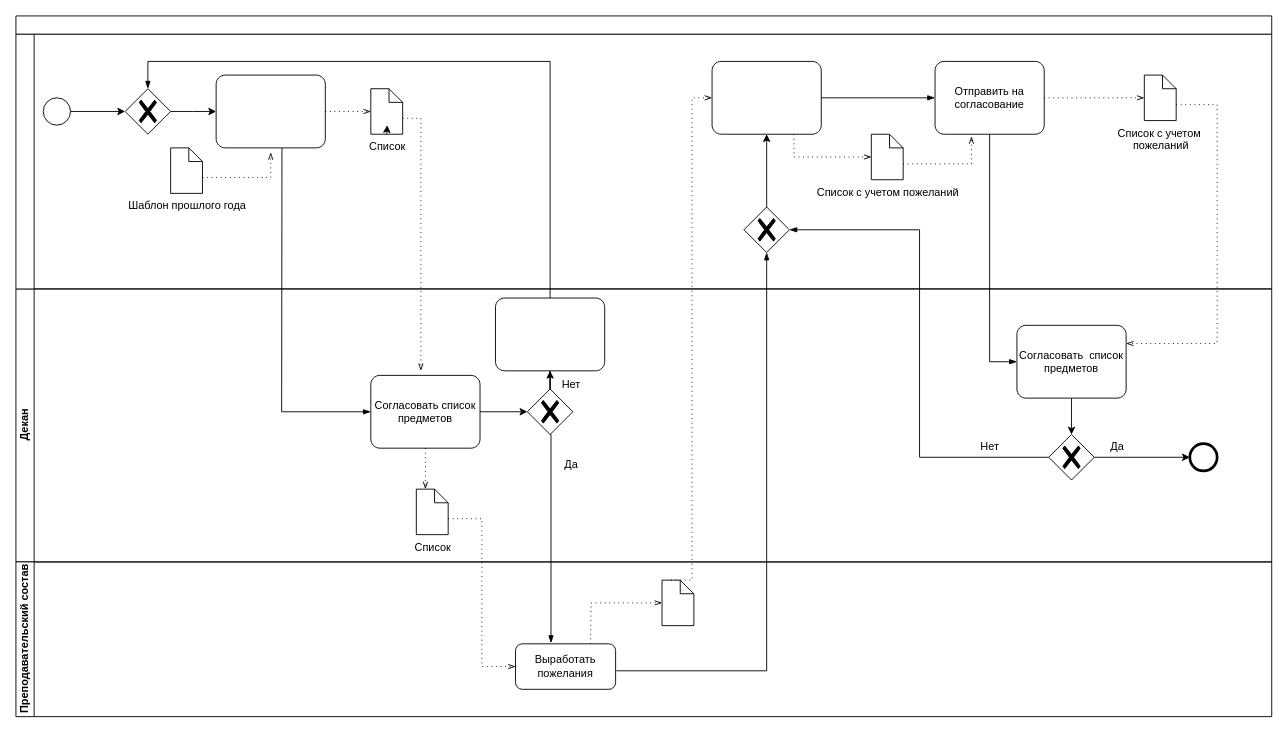
The diagram is 1288 pixels wide and 733 high, and some of its shapes have lost their labels. Here are the shapes that lost their labels. From the top down, the box of each, then its label:
(15, 15, 1272, 34): Составление учебного плана
(215, 74, 325, 148): Сформировать список предметов на новый учебный год
(711, 61, 821, 134): Распределить предметы по пожеланиям
(15, 33, 1272, 289): Сотрудник деканата
(495, 297, 605, 371): Отправить на корректировку
(661, 579, 694, 626): Список с пожеланиями
